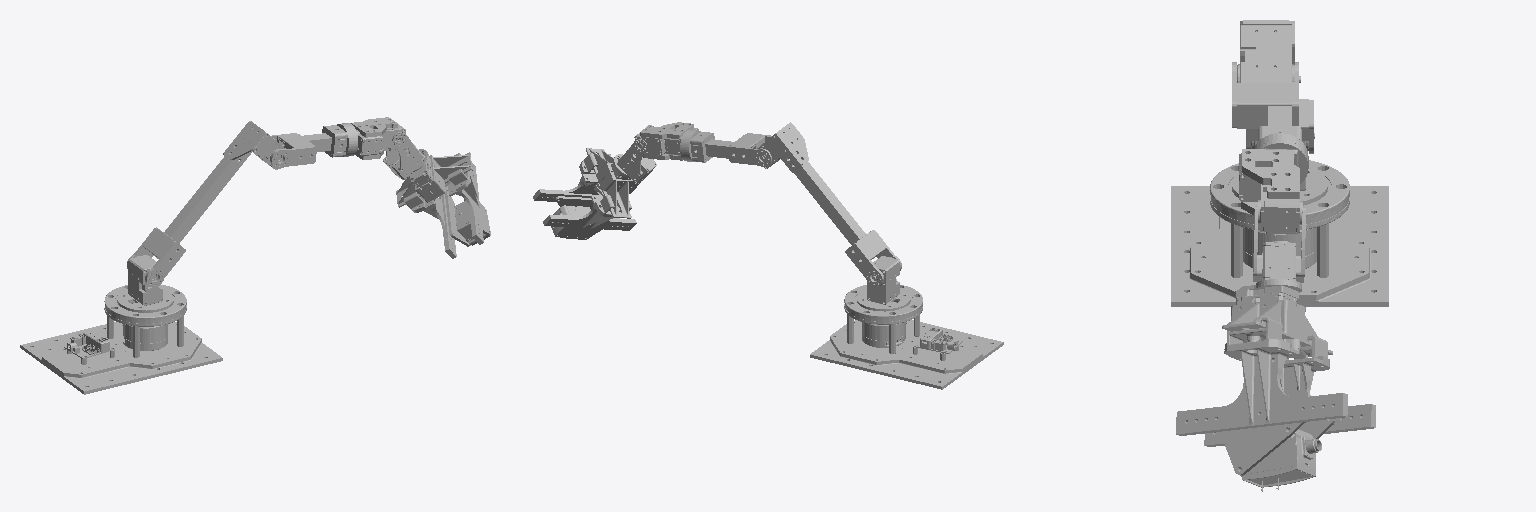
URDF robot description (MizukiArm_withDT35_3):
<?xml version="1.0" encoding="utf-8"?>
<!-- This URDF was automatically created by SolidWorks to URDF Exporter! Originally created by [author] ([email redacted]) 
     Commit Version: 1.6.0-4-g7f85cfe  Build Version: 1.6.7995.38578
     For more information, please see http://wiki.ros.org/sw_urdf_exporter -->
<robot name="MizukiArm_withDT35_3">
  <link name="base_link" />
  <link name="base_link_raw">
    <visual>
      <origin xyz="0 0 0" rpy="0 0 0" />
      <geometry>
        <mesh filename="package://mizukiArm_withDT35_3/meshes/base_link.STL" />
      </geometry>
      <material name="">
        <color rgba="0.75294 0.75294 0.75294 1" />
      </material>
    </visual>
    <collision>
      <origin xyz="0 0 0" rpy="0 0 0" />
      <geometry>
        <mesh filename="package://mizukiArm_withDT35_3/meshes/base_link.STL" />
      </geometry>
    </collision>
  </link>
  <link name="2nd_Link">
    <inertial>
      <origin xyz="-0.00046236 7.9083E-05 0.037859" rpy="0 0 0" />
      <mass value="0.12533" />
      <inertia ixx="4.8212E-05" ixy="2.9661E-13" ixz="1.6188E-07" iyy="5.5046E-05" iyz="-1.2315E-13" izz="5.4426E-05" />
    </inertial>
    <visual>
      <origin xyz="0 0 0" rpy="0 0 0" />
      <geometry>
        <mesh filename="package://mizukiArm_withDT35_3/meshes/2nd_Link.STL" />
      </geometry>
      <material name="">
        <color rgba="0.75294 0.75294 0.75294 1" />
      </material>
    </visual>
    <collision>
      <origin xyz="0 0 0" rpy="0 0 0" />
      <geometry>
        <mesh filename="package://mizukiArm_withDT35_3/meshes/2nd_Link.STL" />
      </geometry>
    </collision>
  </link>
  <joint name="base_link_to_base_link_raw" type="fixed">
    <origin xyz="0 0 0" rpy="-1.5708 0 0" />
    <parent link="base_link" />
    <child link="base_link_raw" />
  </joint>
  <joint name="shoulder_pitch" type="revolute">
    <origin xyz="0 -0.0525 0" rpy="1.5708 1.5708 0" />
    <parent link="base_link_raw" />
    <child link="2nd_Link" />
    <axis xyz="0 0 1" />
    <limit lower="0" upper="0" effort="0" velocity="0" />
  </joint>
  <link name="3rd_Link">
    <inertial>
      <origin xyz="0.12924 -0.0057205 0.10788" rpy="0 0 0" />
      <mass value="0.17134" />
      <inertia ixx="9.322E-05" ixy="1.2012E-07" ixz="-4.7978E-05" iyy="0.00015434" iyz="3.4087E-07" izz="9.6657E-05" />
    </inertial>
    <visual>
      <origin xyz="0 0 0" rpy="0 0 0" />
      <geometry>
        <mesh filename="package://mizukiArm_withDT35_3/meshes/3rd_Link.STL" />
      </geometry>
      <material name="">
        <color rgba="0.75294 0.75294 0.75294 1" />
      </material>
    </visual>
    <collision>
      <origin xyz="0 0 0" rpy="0 0 0" />
      <geometry>
        <mesh filename="package://mizukiArm_withDT35_3/meshes/3rd_Link.STL" />
      </geometry>
    </collision>
  </link>
  <joint name="elbow_joint" type="revolute">
    <origin xyz="0 0 0.071063" rpy="0 0 1.5708" />
    <parent link="2nd_Link" />
    <child link="3rd_Link" />
    <axis xyz="0 1 0" />
    <limit lower="0" upper="0" effort="0" velocity="0" />
  </joint>
  <link name="forearm_root_Link">
    <inertial>
      <origin xyz="-0.10011 -0.0078416 0.22401" rpy="0 0 0" />
      <mass value="0.096113" />
      <inertia ixx="3.0349E-05" ixy="-2.5702E-08" ixz="4.319E-06" iyy="2.9505E-05" iyz="7.6639E-08" izz="1.8919E-05" />
    </inertial>
    <visual>
      <origin xyz="0 0 0" rpy="0 0 0" />
      <geometry>
        <mesh filename="package://mizukiArm_withDT35_3/meshes/forearm_root_Link.STL" />
      </geometry>
      <material name="">
        <color rgba="0.75294 0.75294 0.75294 1" />
      </material>
    </visual>
    <collision>
      <origin xyz="0 0 0" rpy="0 0 0" />
      <geometry>
        <mesh filename="package://mizukiArm_withDT35_3/meshes/forearm_root_Link.STL" />
      </geometry>
    </collision>
  </link>
  <joint name="forearm_root_joint" type="revolute">
    <origin xyz="0.03475 0 0.14175" rpy="3.1416 1.1223 3.1416" />
    <parent link="3rd_Link" />
    <child link="forearm_root_Link" />
    <axis xyz="0 1 0" />
    <limit lower="0" upper="0" effort="0" velocity="0" />
  </joint>
  <link name="forearm_tip_link">
    <inertial>
      <origin xyz="-0.050093 -0.16611 -0.12207" rpy="0 0 0" />
      <mass value="0.12969" />
      <inertia ixx="3.1E-05" ixy="-4.8271E-06" ixz="3.0946E-06" iyy="2.7182E-05" iyz="-2.7996E-06" izz="3.8442E-05" />
    </inertial>
    <visual>
      <origin xyz="0 0 0" rpy="0 0 0" />
      <geometry>
        <mesh filename="package://mizukiArm_withDT35_3/meshes/forearm_tip_link.STL" />
      </geometry>
      <material name="">
        <color rgba="0.75294 0.75294 0.75294 1" />
      </material>
    </visual>
    <collision>
      <origin xyz="0 0 0" rpy="0 0 0" />
      <geometry>
        <mesh filename="package://mizukiArm_withDT35_3/meshes/forearm_tip_link.STL" />
      </geometry>
    </collision>
  </link>
  <joint name="forearm_tip_joint" type="revolute">
    <origin xyz="0 0 0.152127773193381" rpy="-1.57079623312719 0 -1.14431186755646" />
    <parent link="forearm_root_Link" />
    <child link="forearm_tip_link" />
    <axis xyz="0 1 0" />
    <limit lower="0" upper="0" effort="0" velocity="0" />
  </joint>
  <link name="wrist_link">
    <inertial>
      <origin xyz="0.411643183385185 -0.0463931842778506 0.0231021246546449" rpy="0 0 0" />
      <mass value="0.0588876818541705" />
      <inertia ixx="1.16965127387054E-05" ixy="-1.19071174399847E-06" ixz="-5.76057641680749E-07" iyy="1.36744432014869E-05" iyz="-1.9231970319494E-06" izz="9.97941816125914E-06" />
    </inertial>
    <visual>
      <origin xyz="0 0 0" rpy="0 0 0" />
      <geometry>
        <mesh filename="package://mizukiArm_withDT35_3/meshes/wrist_link.STL" />
      </geometry>
      <material name="">
        <color rgba="0.752941176470588 0.752941176470588 0.752941176470588 1" />
      </material>
    </visual>
    <collision>
      <origin xyz="0 0 0" rpy="0 0 0" />
      <geometry>
        <mesh filename="package://mizukiArm_withDT35_3/meshes/wrist_link.STL" />
      </geometry>
    </collision>
  </link>
  <joint name="wrist_joint" type="revolute">
    <origin xyz="0 0.063707 -0.3864" rpy="0 -0.69813 -1.5708" />
    <parent link="forearm_tip_link" />
    <child link="wrist_link" />
    <axis xyz="0.2869 -0.89975 0.32885" />
    <limit lower="0" upper="0" effort="0" velocity="0" />
  </joint>
  <link name="hand_link">
    <inertial>
      <origin xyz="0.17681 -0.05137 -0.078289" rpy="0 0 0" />
      <mass value="0.29145" />
      <inertia ixx="0.00013227" ixy="-4.605E-05" ixz="-4.9558E-05" iyy="0.00020201" iyz="-2.3091E-05" izz="0.00015853" />
    </inertial>
    <visual>
      <origin xyz="0 0 0" rpy="0 0 0" />
      <geometry>
        <mesh filename="package://mizukiArm_withDT35_3/meshes/hand_link.STL" />
      </geometry>
      <material name="">
        <color rgba="0.75294 0.75294 0.75294 1" />
      </material>
    </visual>
    <collision>
      <origin xyz="0 0 0" rpy="0 0 0" />
      <geometry>
        <mesh filename="package://mizukiArm_withDT35_3/meshes/hand_link.STL" />
      </geometry>
    </collision>
  </link>
  <joint name="hand_joint" type="fixed">
    <origin xyz="0.41446 -0.00020011 0.15664" rpy="1.3463 0.78525 -0.95801" />
    <parent link="wrist_link" />
    <child link="hand_link" />
    <axis xyz="0 0 0" />
  </joint>
</robot>

--- What the picture shows (computed from the rendered views, not written in the file) ---
Views: 3 orthographic renders of the robot side by side, from view 1: azimuth 30°, elevation 25°; view 2: azimuth 150°, elevation 25°; view 3: azimuth 270°, elevation 25°.
Robot: MizukiArm_withDT35_3 — 8 links, 7 joints (5 revolute, 2 fixed); root link base_link; default pose: every joint at zero.
Links seen in each view (by area): view 1: base_link_raw, hand_link, 3rd_Link, forearm_root_Link, 2nd_Link, forearm_tip_link, wrist_link; view 2: base_link_raw, hand_link, 3rd_Link, forearm_root_Link, 2nd_Link, forearm_tip_link, wrist_link; view 3: base_link_raw, hand_link, forearm_tip_link, 3rd_Link, forearm_root_Link, wrist_link, 2nd_Link.
Link boxes in pixels (<box>): base_link_raw: <box>20,285,222,394</box>; hand_link: <box>396,152,490,258</box>; 3rd_Link: <box>127,121,285,287</box>; forearm_root_Link: <box>270,123,354,168</box>; 2nd_Link: <box>117,255,173,311</box>; forearm_tip_link: <box>347,117,405,159</box>; wrist_link: <box>383,133,427,179</box>; base_link_raw: <box>810,285,1003,389</box>; hand_link: <box>533,148,641,239</box>; 3rd_Link: <box>757,122,901,286</box>; forearm_root_Link: <box>683,130,771,166</box>; 2nd_Link: <box>857,256,910,310</box>; forearm_tip_link: <box>634,122,698,161</box>; wrist_link: <box>614,140,656,183</box>; base_link_raw: <box>1171,160,1388,306</box>; hand_link: <box>1176,281,1375,491</box>; forearm_tip_link: <box>1239,140,1308,233</box>; 3rd_Link: <box>1237,20,1313,153</box>; forearm_root_Link: <box>1232,62,1308,161</box>; wrist_link: <box>1253,206,1305,285</box>; 2nd_Link: <box>1232,133,1327,204</box>.
Bounding box of the posed robot: 0.7438 × 0.186 × 0.32 m (x, y, z).
7 mesh visuals loaded from 7 distinct referenced files (7 binary STL).
